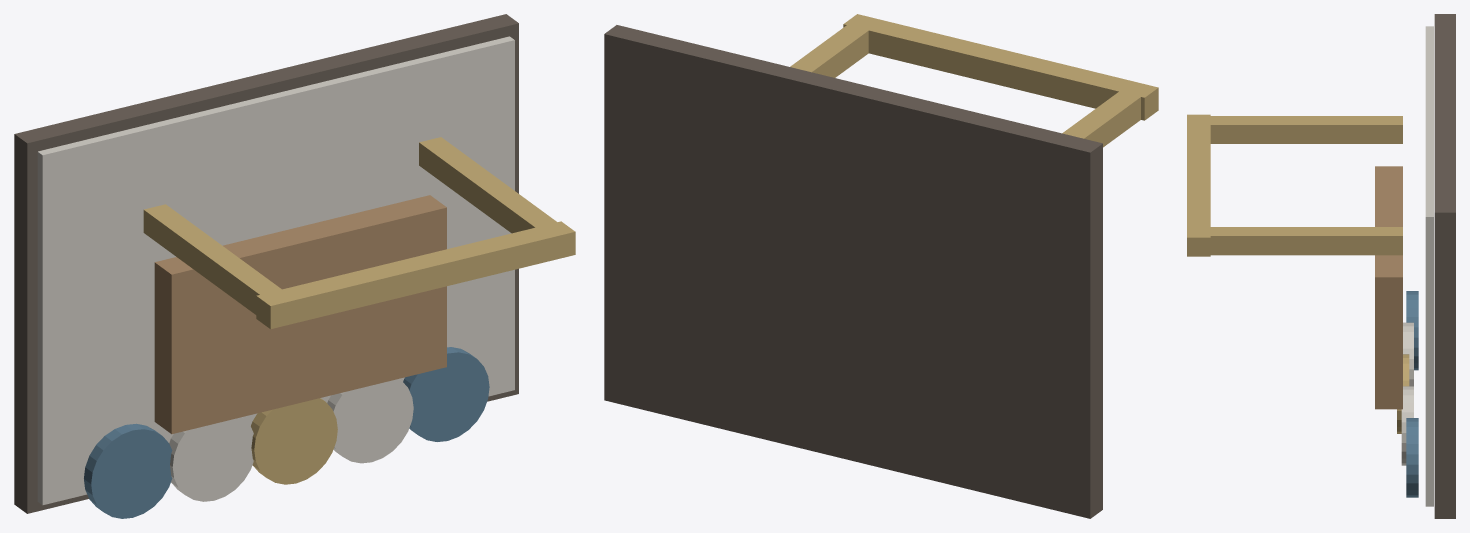
File: hua_stage_static.glb
3 views of the same model, side by side, from view 1: azimuth 30°, elevation 25°; view 2: azimuth 150°, elevation 25°; view 3: azimuth 270°, elevation 25° (orthographic). The views are drawn at different scales.
Visible parts, largest first — view 1: world; view 2: world; view 3: world.
Part boxes in pixels (x1,y1,x2,y2): world: [14, 14, 575, 518]; world: [604, 14, 1158, 518]; world: [1187, 14, 1455, 518].
Size of the model in its own units: 1 by 0.745 by 0.5725.
